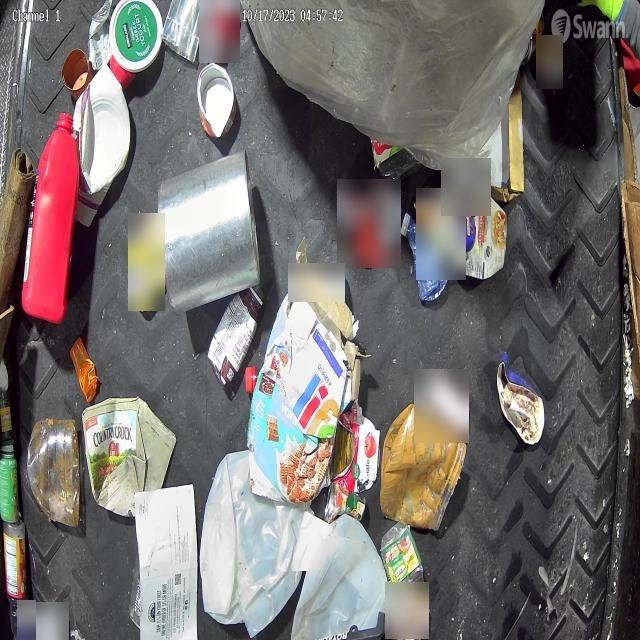milk_jug: (200, 448, 316, 638), (291, 515, 390, 640)
non_white_jug: (21, 106, 78, 320)
